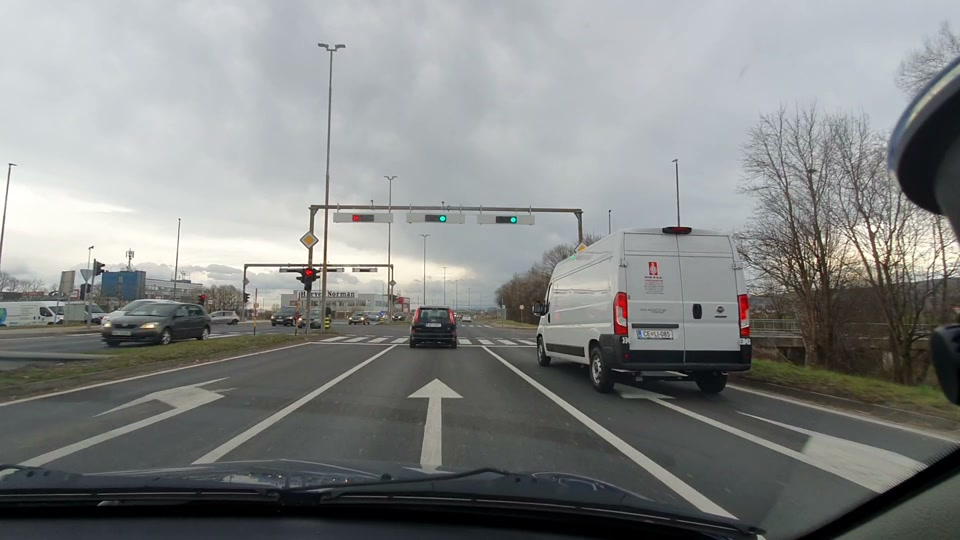vehicle_ign: (533, 224, 756, 399), (411, 303, 458, 352)
vehicle_s: (105, 293, 214, 356)
